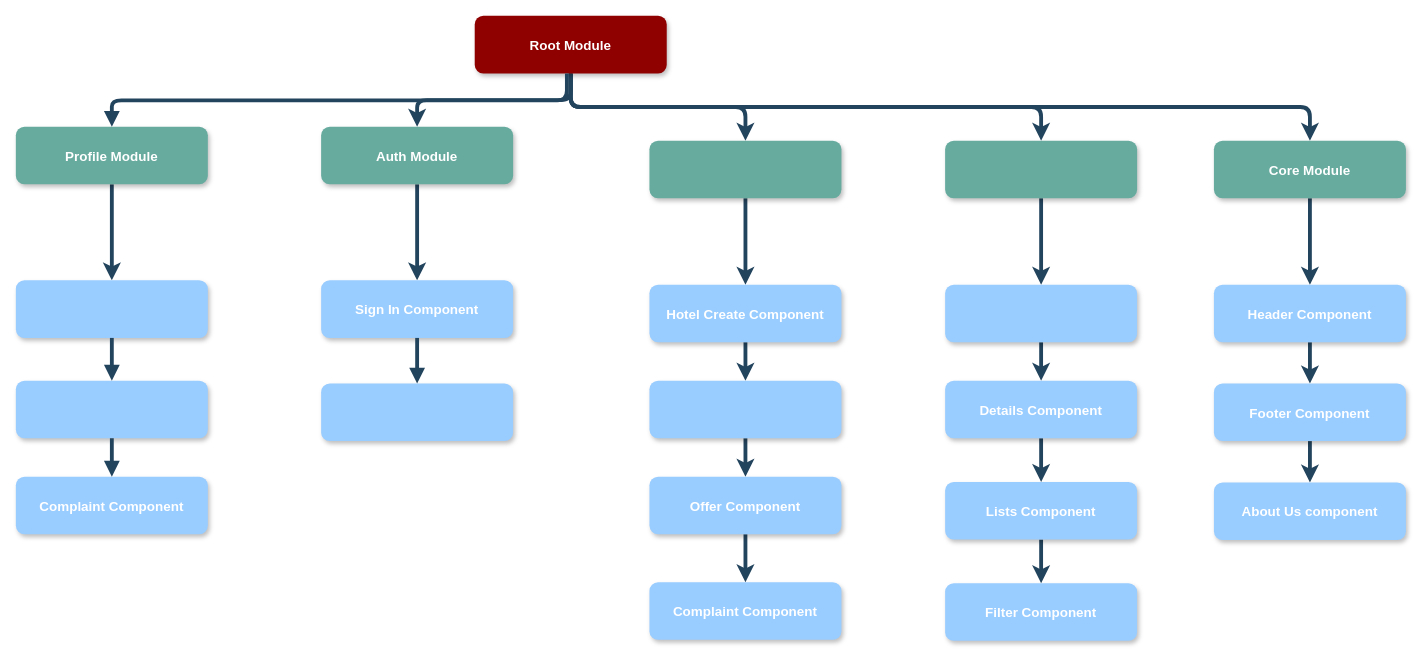
Image size: 1422x657. Some labels were removed from this diagram. The centre of each missing label's shape, as x and y in pixels:
"Booking Module" goes at point (1041, 170).
"Hotel Edit Component" goes at point (746, 410).
"Hotels Module" goes at point (746, 170).
"Profile Component" goes at point (112, 310).
"Review Component" goes at point (112, 410).
"Search Component" goes at point (1041, 314).
"Sign Up Component" goes at point (417, 413).
